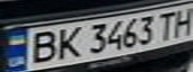3: (84, 20, 109, 55), (136, 12, 160, 45)
4: (106, 18, 127, 52)
6: (121, 16, 142, 50)
B: (21, 28, 63, 65)
H: (169, 6, 193, 37)
K: (51, 25, 84, 61)
T: (154, 9, 181, 39)
